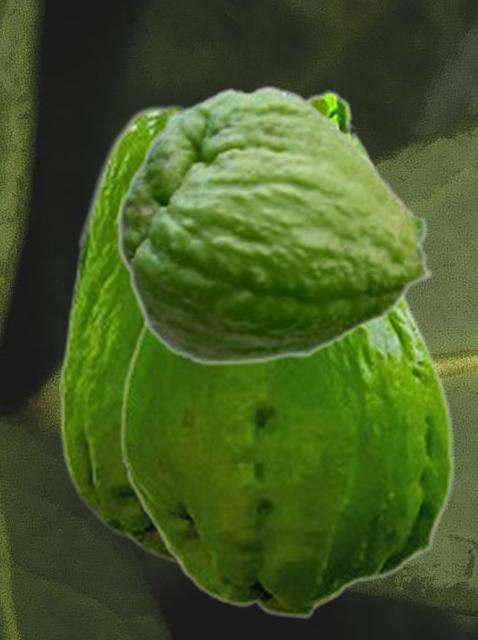sayote: (119, 90, 455, 619), (116, 84, 434, 366), (59, 98, 200, 568)
